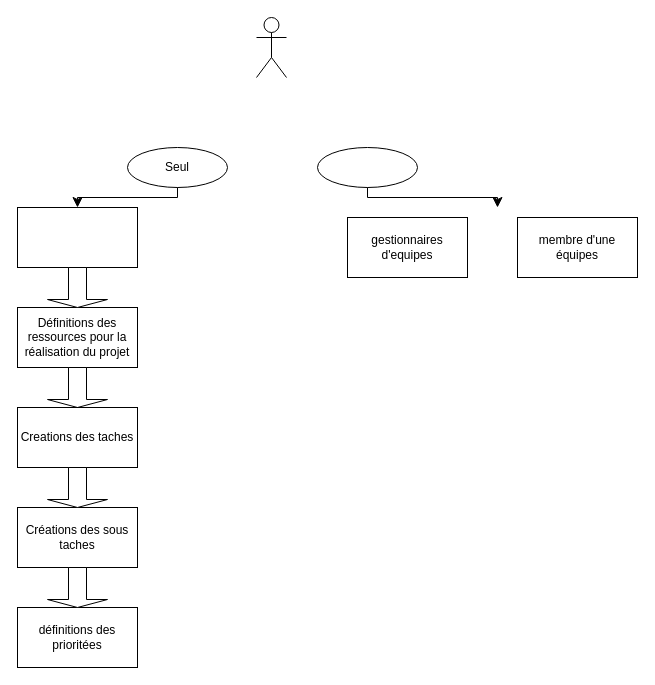
The diagram is 655 pixels wide and 685 high, and some of its shapes have lost their labels. The shapes that lost their labels are listed below. From the top down, each one's box as (x1, y1, x2, y2) in pixels, then its label:
(256, 16, 286, 78): Client
(316, 146, 418, 188): En équipes
(16, 206, 138, 268): Créer un projet
